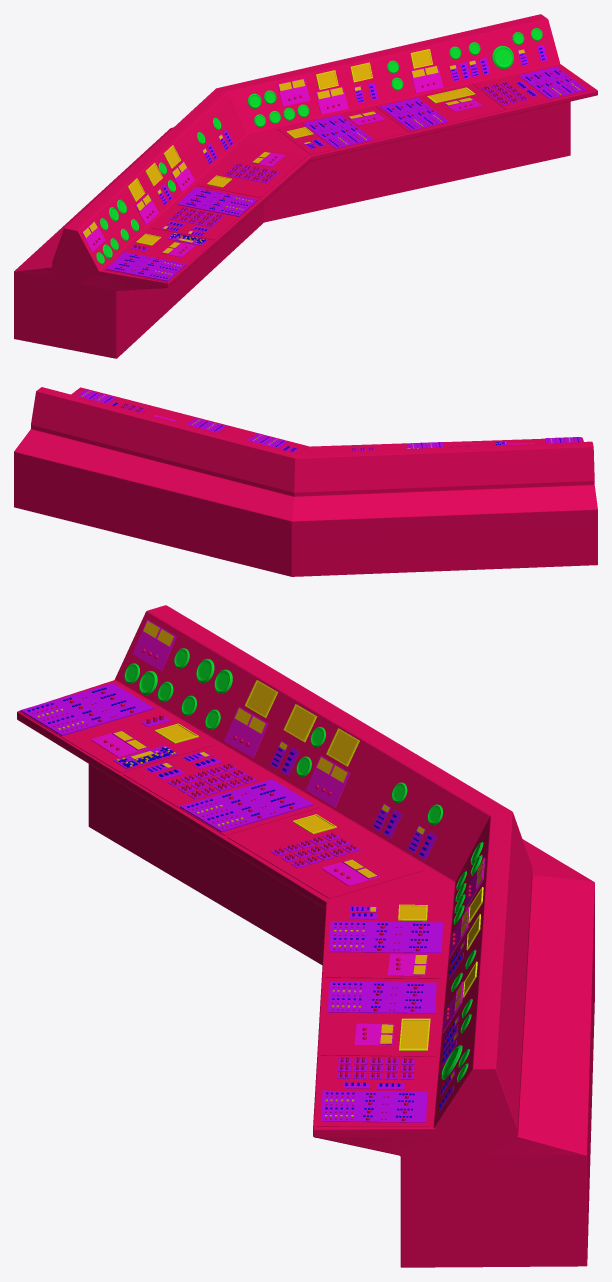
The model's file is control_panel.fbx.
3 renders of one model, top to bottom at view 1: azimuth 30°, elevation 25°; view 2: azimuth 150°, elevation 25°; view 3: azimuth 270°, elevation 25°, orthographic. The views are drawn at different scales.
Visible parts, largest first — view 1: Main_panel, Panel_1 (×5), under_panel2, Panel_2 (×3), under_panel, under_panel4, under_panel1, under_panel5, under_panel3; view 2: Main_panel, Panel_1 (×3), under_panel2, under_panel4, under_panel, under_panel5, under_panel1; view 3: Main_panel, Panel_1 (×5), Panel_2 (×7), under_panel2, under_panel, under_panel4, under_panel1, under_panel5, under_panel3, Glow_panel_07.
Boxes of the visible parts, x1=… form: Main_panel: x1=14, y1=14, x2=597, y2=358; Panel_1 (×5): x1=106, y1=66, x2=586, y2=281; under_panel2: x1=197, y1=144, x2=306, y2=197; Panel_2 (×3): x1=277, y1=65, x2=443, y2=114; under_panel: x1=277, y1=107, x2=406, y2=154; under_panel4: x1=376, y1=84, x2=504, y2=132; under_panel1: x1=151, y1=186, x2=260, y2=240; under_panel5: x1=473, y1=65, x2=593, y2=110; under_panel3: x1=104, y1=228, x2=213, y2=282; Main_panel: x1=14, y1=387, x2=597, y2=576; Panel_1 (×3): x1=77, y1=389, x2=287, y2=448; under_panel2: x1=312, y1=444, x2=401, y2=452; under_panel4: x1=144, y1=406, x2=229, y2=433; under_panel: x1=222, y1=427, x2=307, y2=453; under_panel5: x1=73, y1=388, x2=151, y2=412; under_panel1: x1=402, y1=440, x2=492, y2=448; Main_panel: x1=17, y1=605, x2=594, y2=1267; Panel_1 (×5): x1=20, y1=683, x2=442, y2=1122; Panel_2 (×7): x1=91, y1=619, x2=428, y2=1045; under_panel2: x1=227, y1=808, x2=423, y2=898; under_panel: x1=325, y1=902, x2=445, y2=978; under_panel4: x1=320, y1=980, x2=441, y2=1056; under_panel1: x1=123, y1=746, x2=319, y2=835; under_panel5: x1=317, y1=1056, x2=436, y2=1126; under_panel3: x1=18, y1=683, x2=214, y2=772; Glow_panel_07: x1=399, y1=1018, x2=430, y2=1050.
Bounding box in the file's own units: 130 × 24.77 × 65.36.
